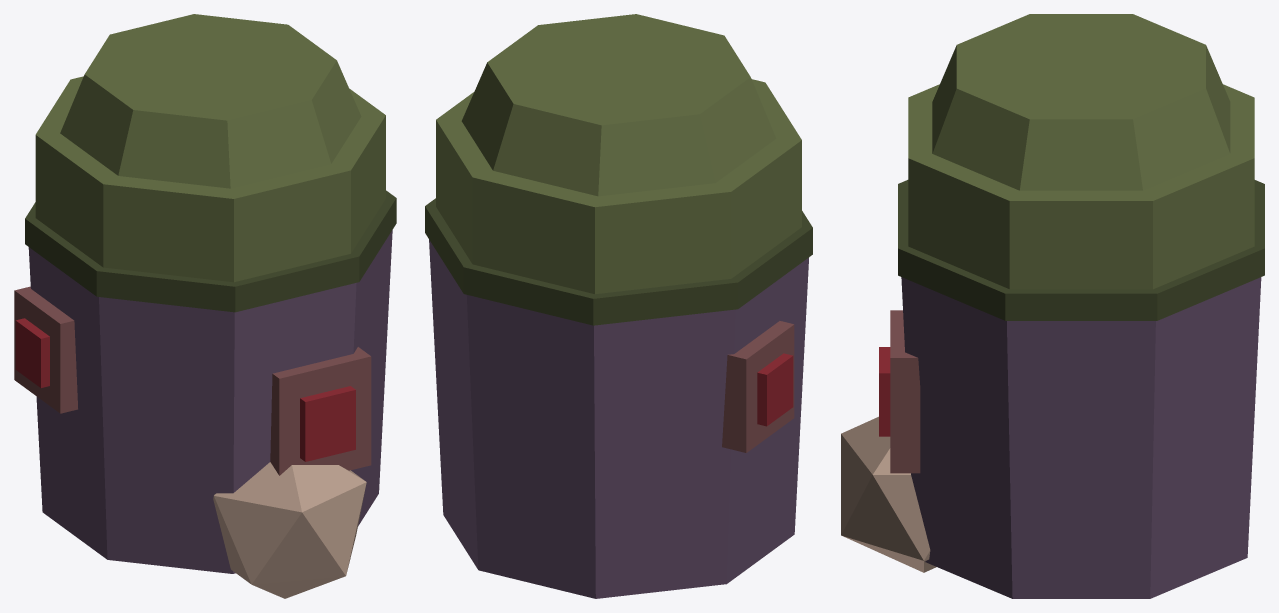
Rendered from inf_v2_brute_upper_leg.fbx.
The picture shows the model from 3 angles, left to right: view 1: azimuth 30°, elevation 25°; view 2: azimuth 150°, elevation 25°; view 3: azimuth 270°, elevation 25°; orthographic projection. The views are drawn at different scales.
Parts seen in each view (by area): view 1: inf_v2_brute_upper_leg; view 2: inf_v2_brute_upper_leg; view 3: inf_v2_brute_upper_leg.
Boxes of the visible parts, x1,y1,x2,y2 form: inf_v2_brute_upper_leg: [14, 14, 396, 598]; inf_v2_brute_upper_leg: [425, 14, 812, 598]; inf_v2_brute_upper_leg: [841, 14, 1264, 598].
Bounding box in the file's own units: 104 × 149 × 113.
